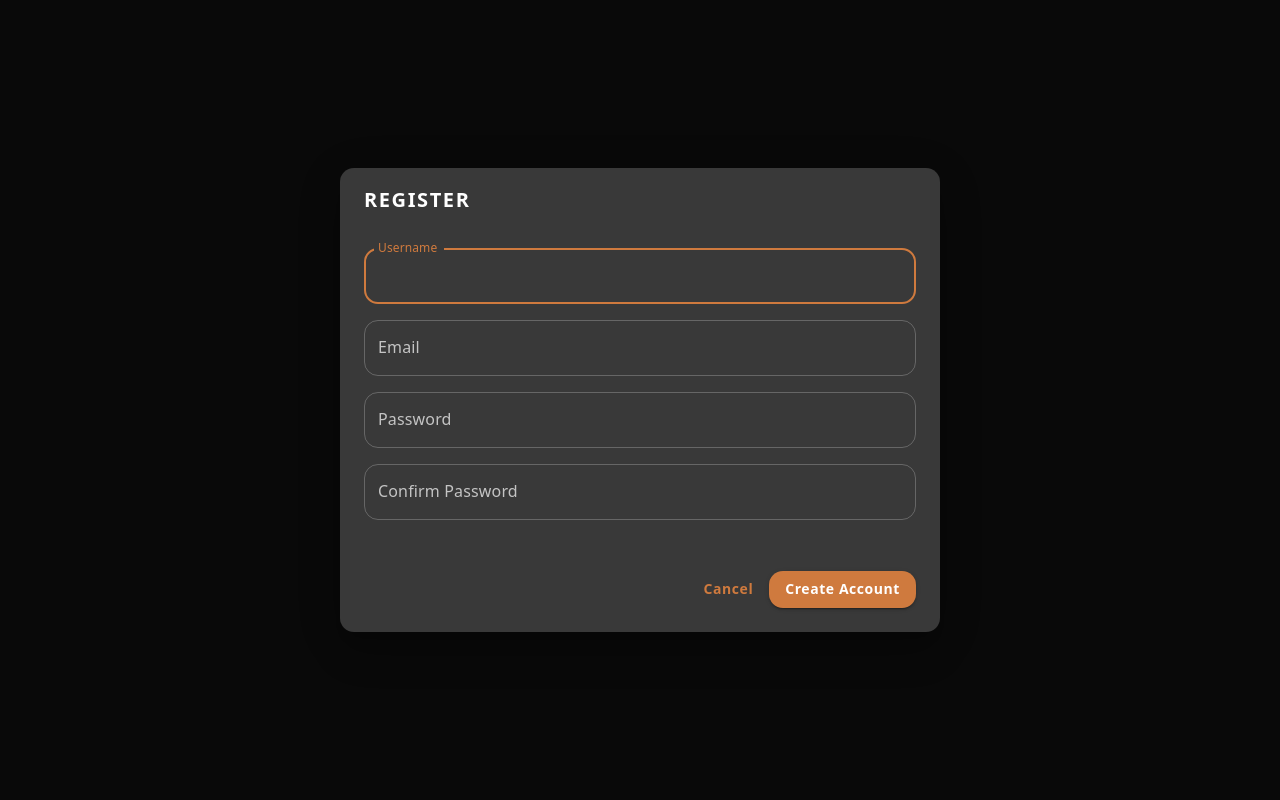
Scenario: RegisterModal › does not submit registration when the passwords do not match
In the field labelled "Username": point(640, 276) [364,248,916,304], type "demo-user"
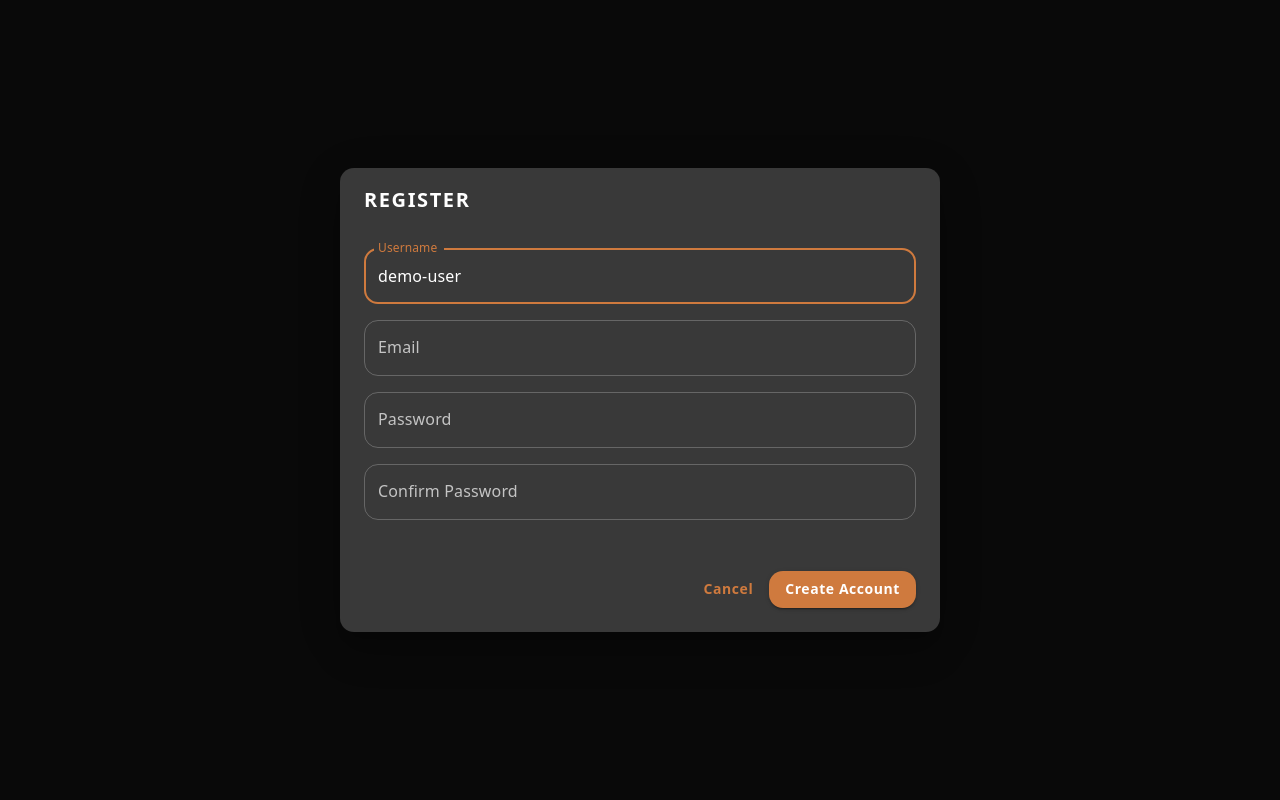
In the field labelled "Email": point(640, 348) [364,320,916,376], type "demo@example.com"
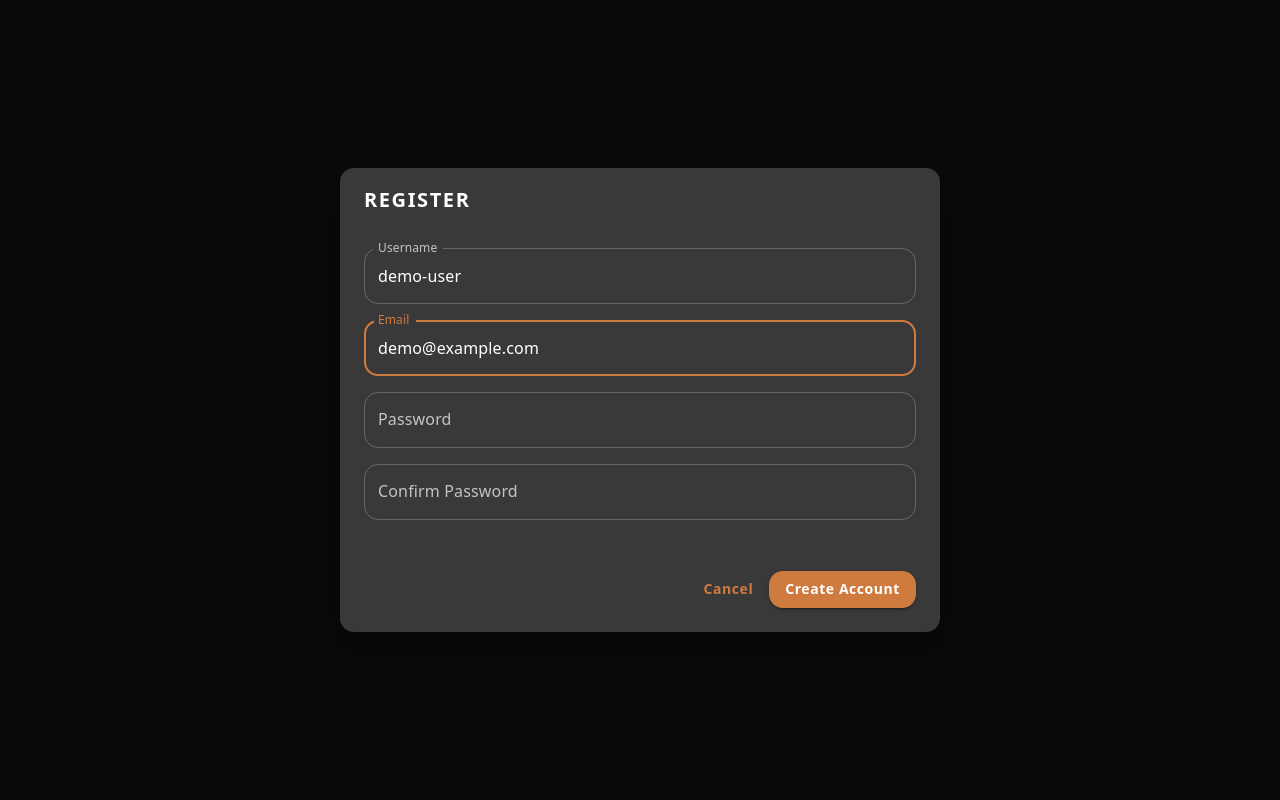
In the password field labelled "Password": point(640, 420) [364,392,916,448], type "secret-1"
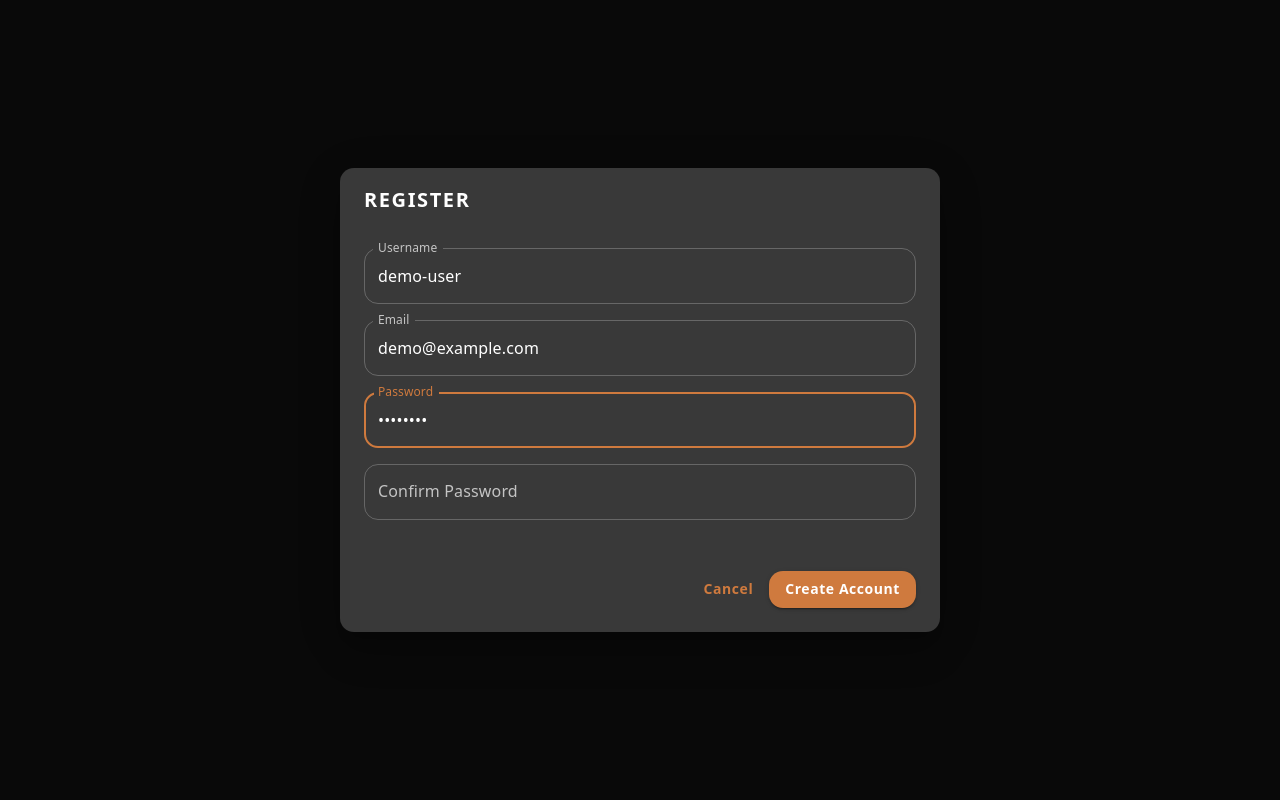
In the password field labelled "Confirm Password": point(640, 492) [364,464,916,520], type "secret-2"
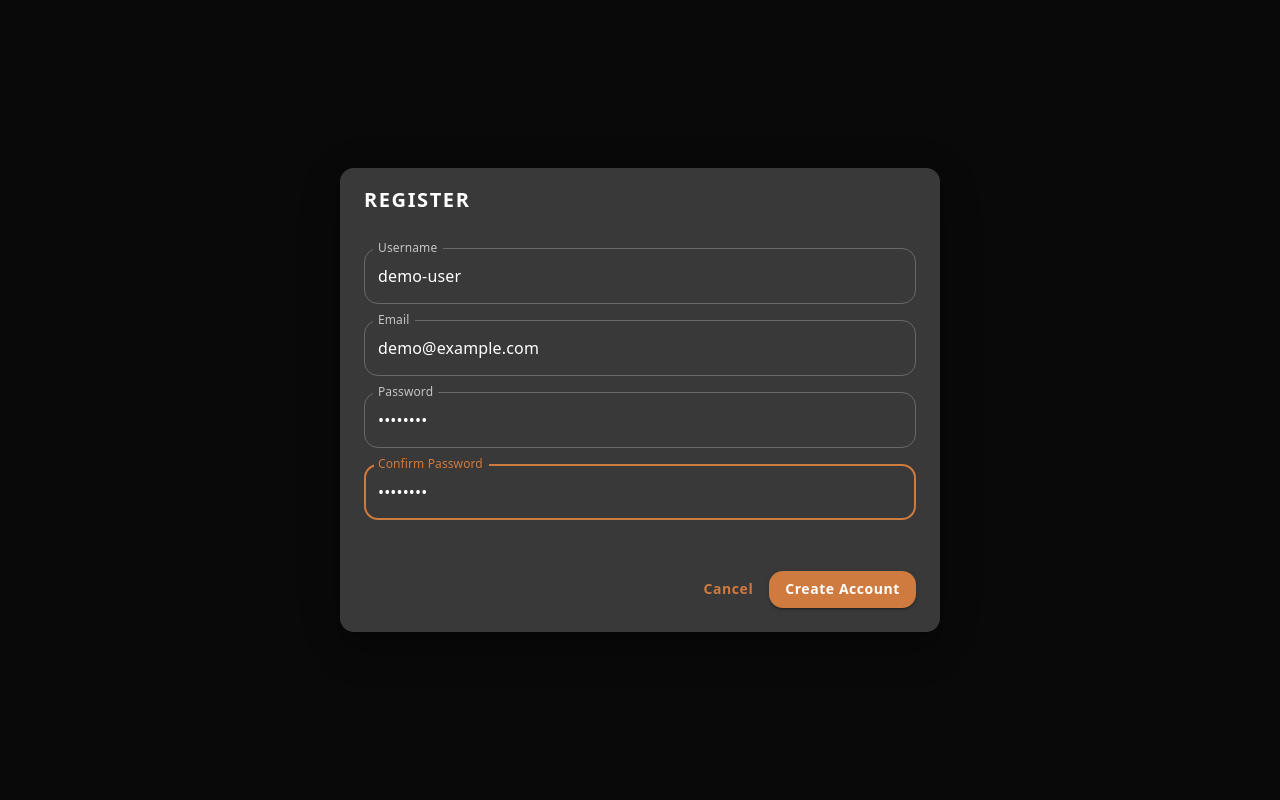
Click the button "Create Account": point(843, 589) [769,571,916,608]
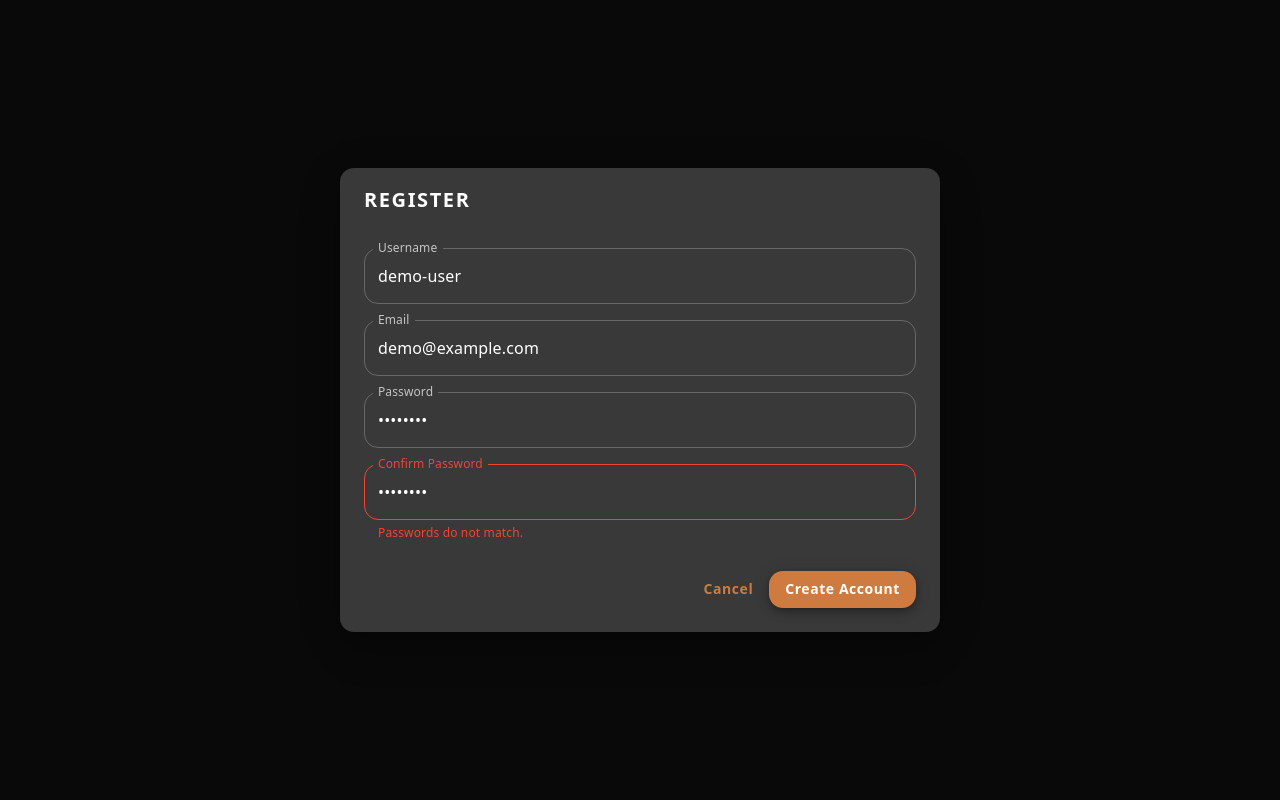
Check: the text "Passwords do not match." is shown, box [378,524,523,541]
